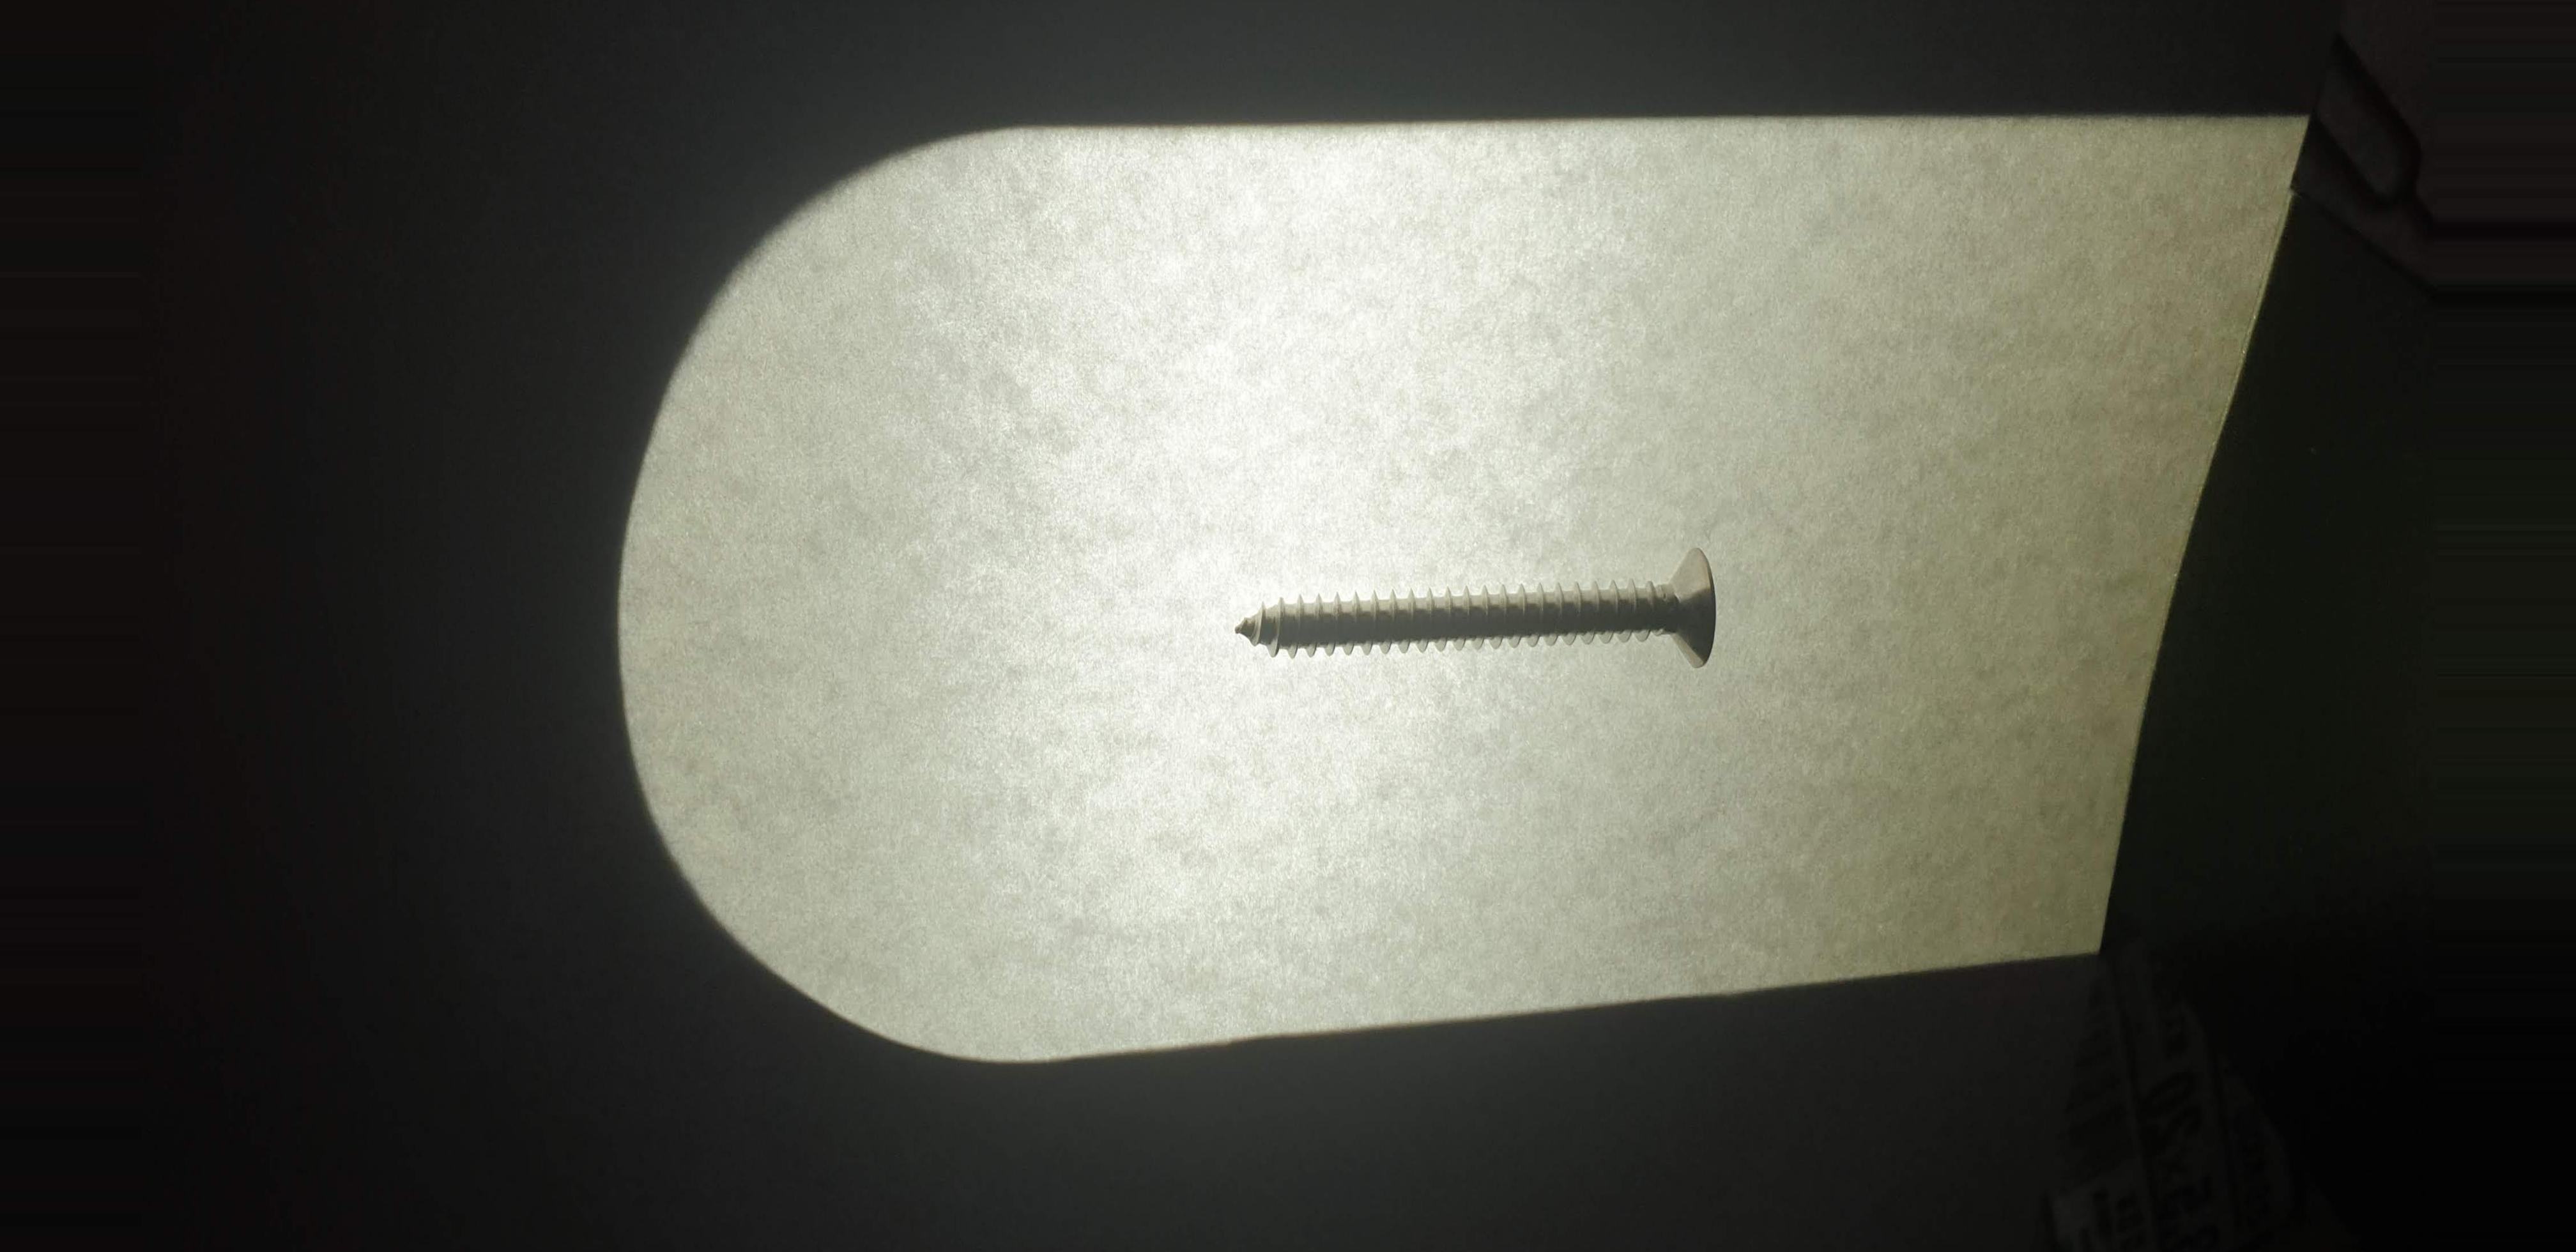S001: (1204, 518, 1763, 703)
